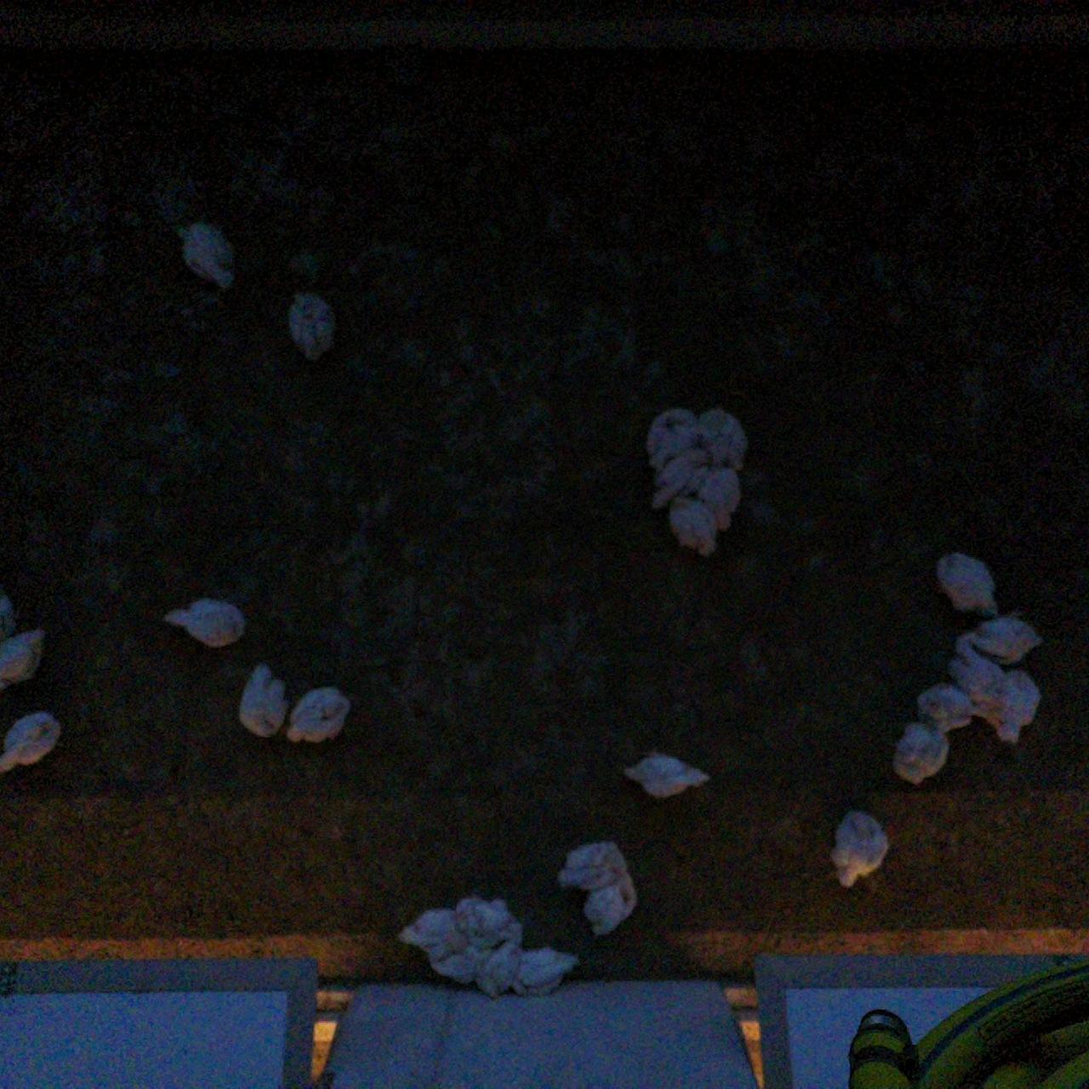chicken: (823, 804, 893, 891), (969, 664, 1043, 744), (169, 212, 238, 293), (161, 593, 252, 654), (620, 751, 717, 807), (282, 679, 355, 748), (929, 547, 998, 619), (967, 606, 1049, 663), (395, 903, 474, 962), (0, 704, 66, 774), (890, 717, 954, 789), (556, 835, 631, 896), (508, 943, 585, 1001), (236, 660, 291, 741), (282, 285, 337, 363), (690, 406, 749, 478), (943, 638, 1009, 702), (582, 871, 640, 942), (643, 404, 702, 473), (650, 445, 709, 513), (910, 675, 973, 737), (0, 621, 51, 696), (453, 895, 522, 950), (470, 941, 525, 1001), (667, 490, 713, 561), (694, 463, 741, 531), (429, 943, 490, 988), (0, 583, 25, 643)
